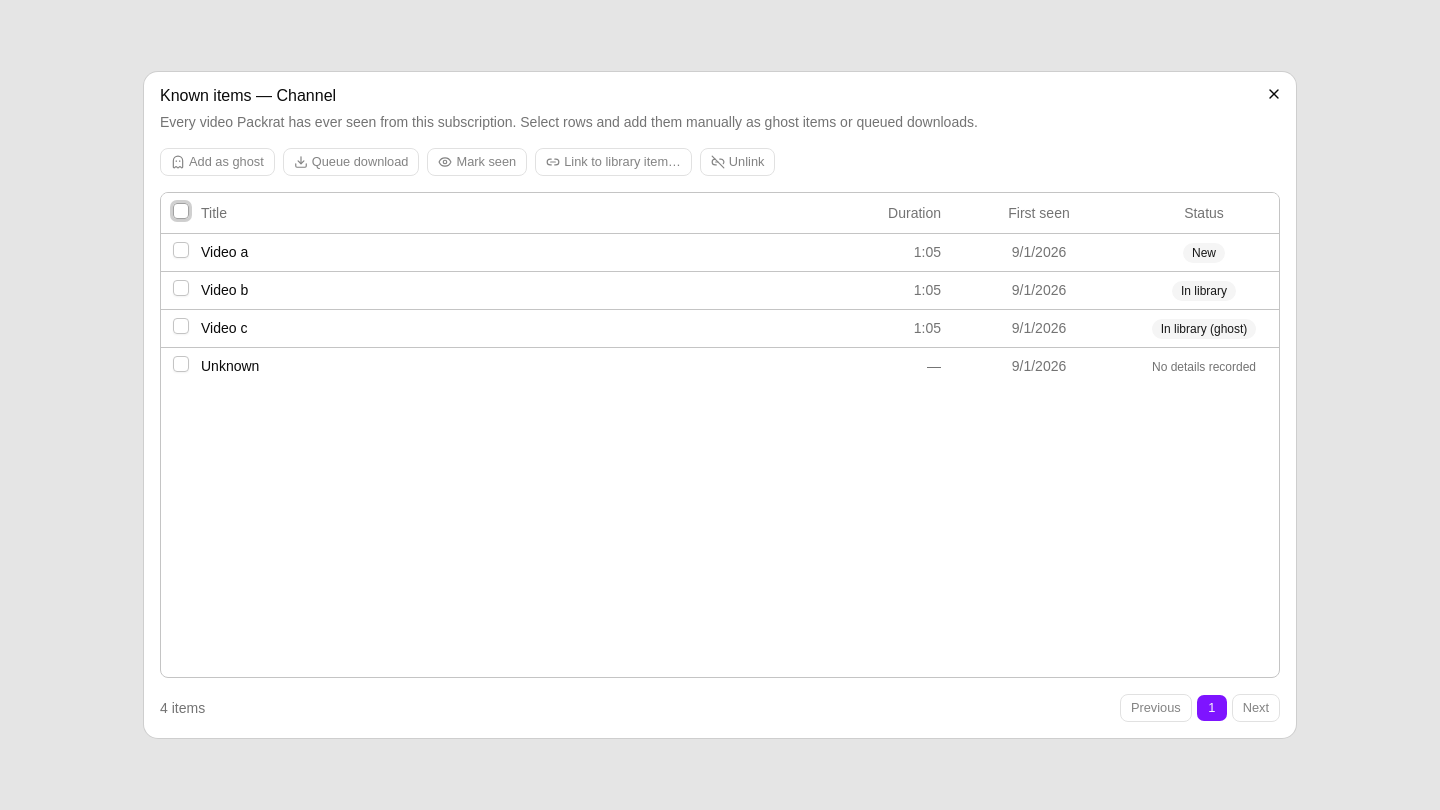
KnownItemsDialog actions › applies the eligibility rules to the selection
The width and height of the screenshot is (1440, 810).
Press the mouse on the row "Unknown — 9/1/2026 No details recorded" at (230, 366), box [161,347,1279,384]
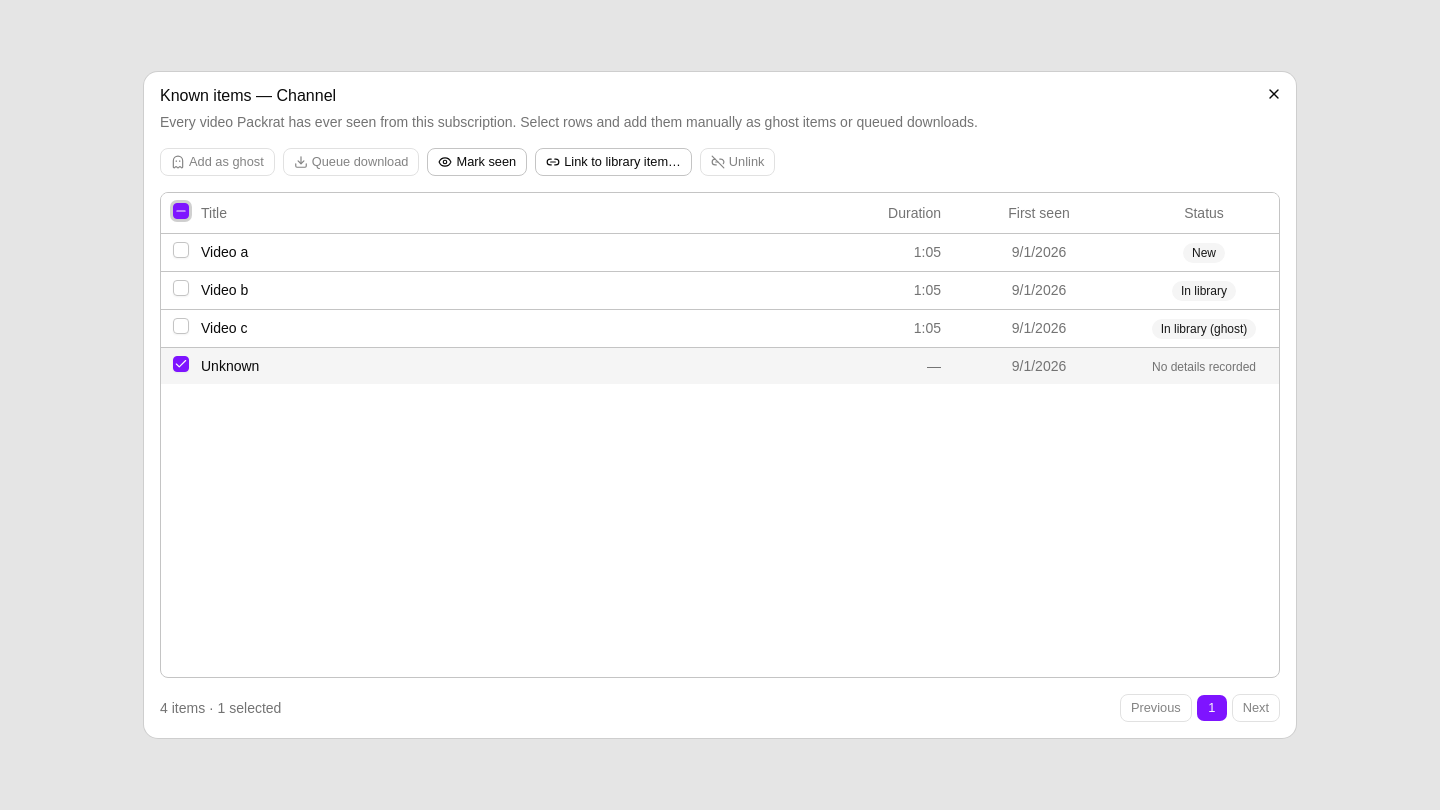
Check: the button "Add as ghost" is disabled, box [160,148,275,176]
Check: the button "Mark seen" is enabled, box [428,148,527,176]
Check: the button "Link to library item…" is enabled, box [535,148,692,176]
Press the mouse on the row "Video b 1:05 9/1/2026 In library" at (720, 290), box [161,271,1279,309]
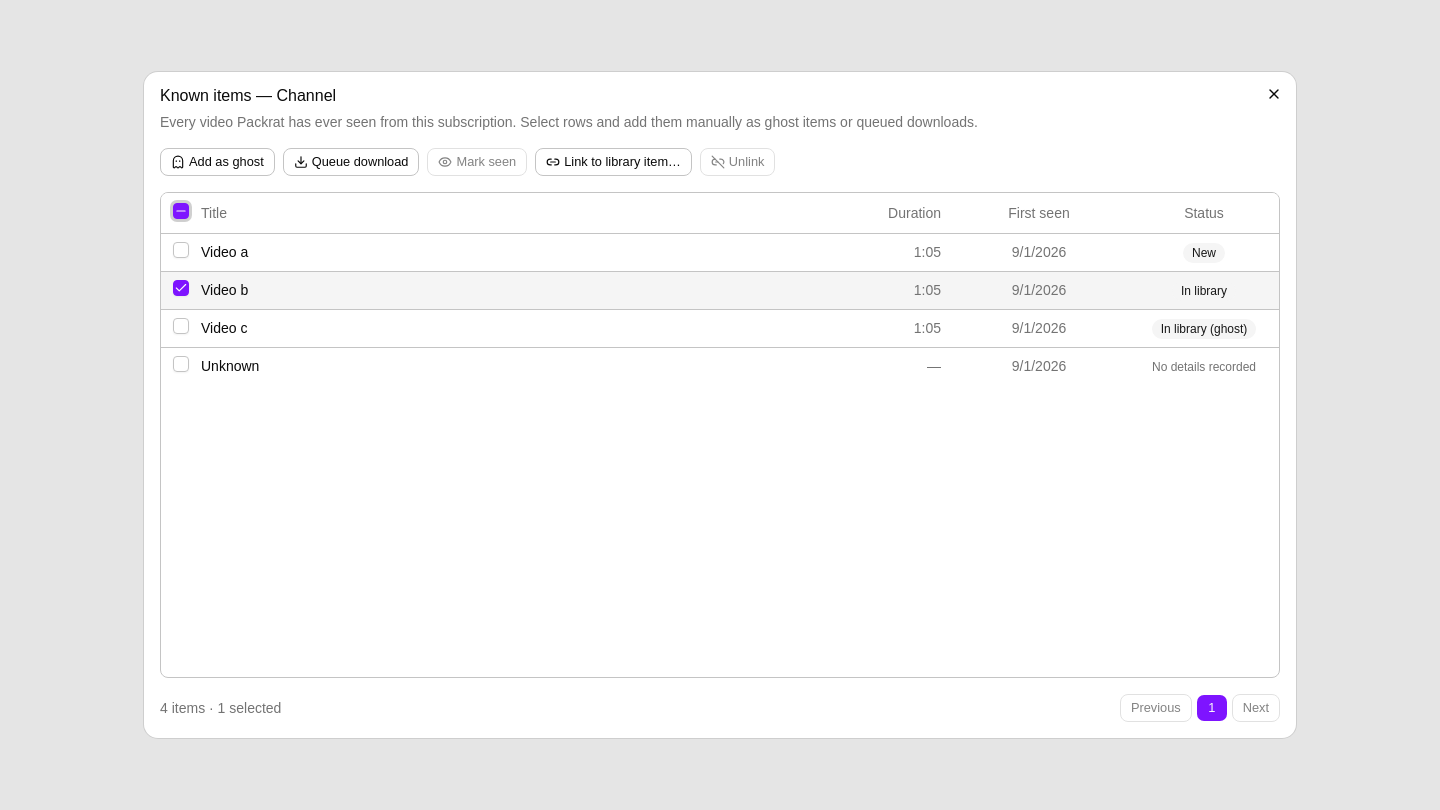
Check: the button "Unlink" is disabled, box [700,148,776,176]
Check: the button "Add as ghost" is enabled, box [160,148,275,176]
Check: the button "Mark seen" is disabled, box [428,148,527,176]
Press the mouse on the row "Video c 1:05 9/1/2026 In library (ghost)" at (720, 328), box [161,309,1279,347]
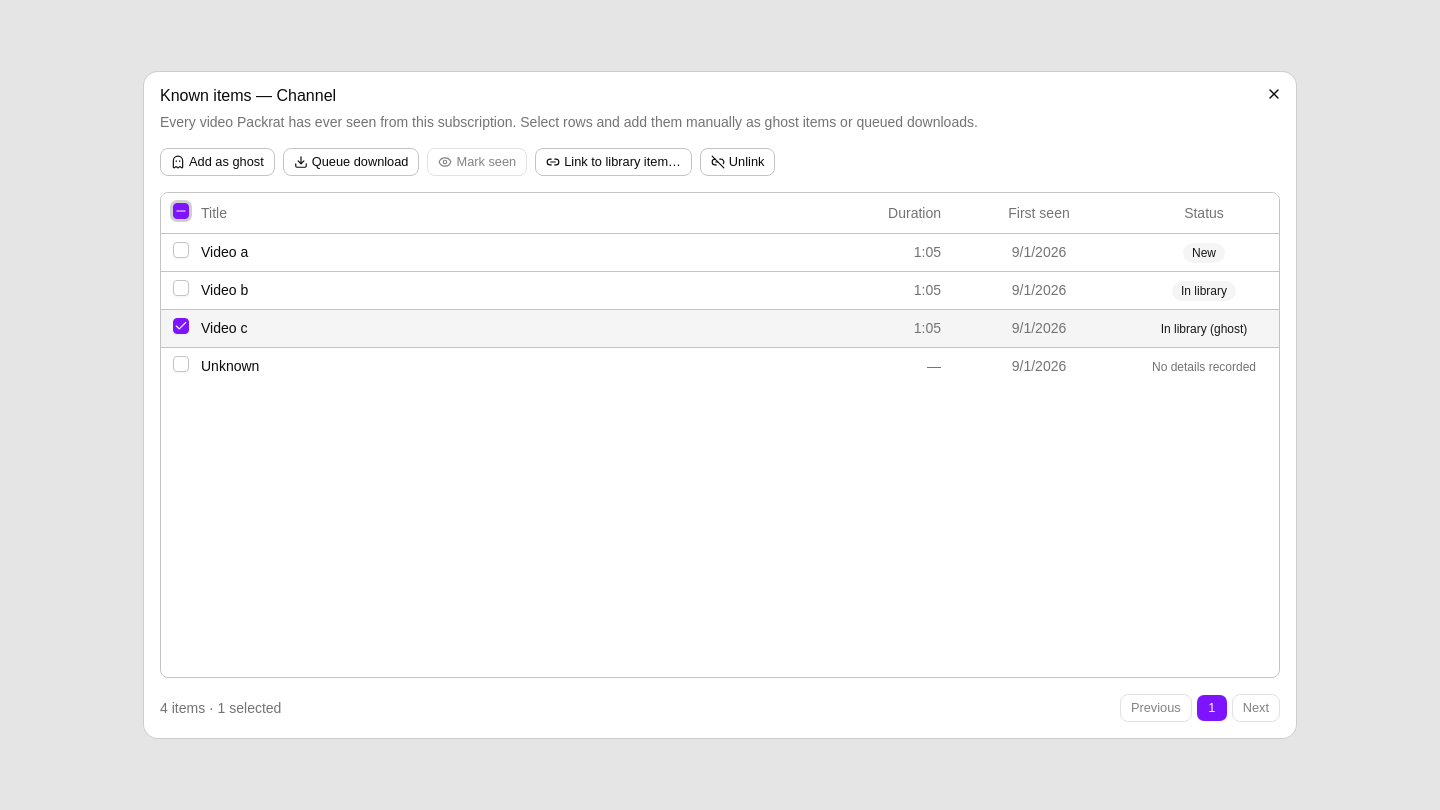
Check: the button "Unlink" is enabled, box [700,148,776,176]
Press the mouse on the row "Video a 1:05 9/1/2026 New" at (720, 252), box [161,233,1279,271]
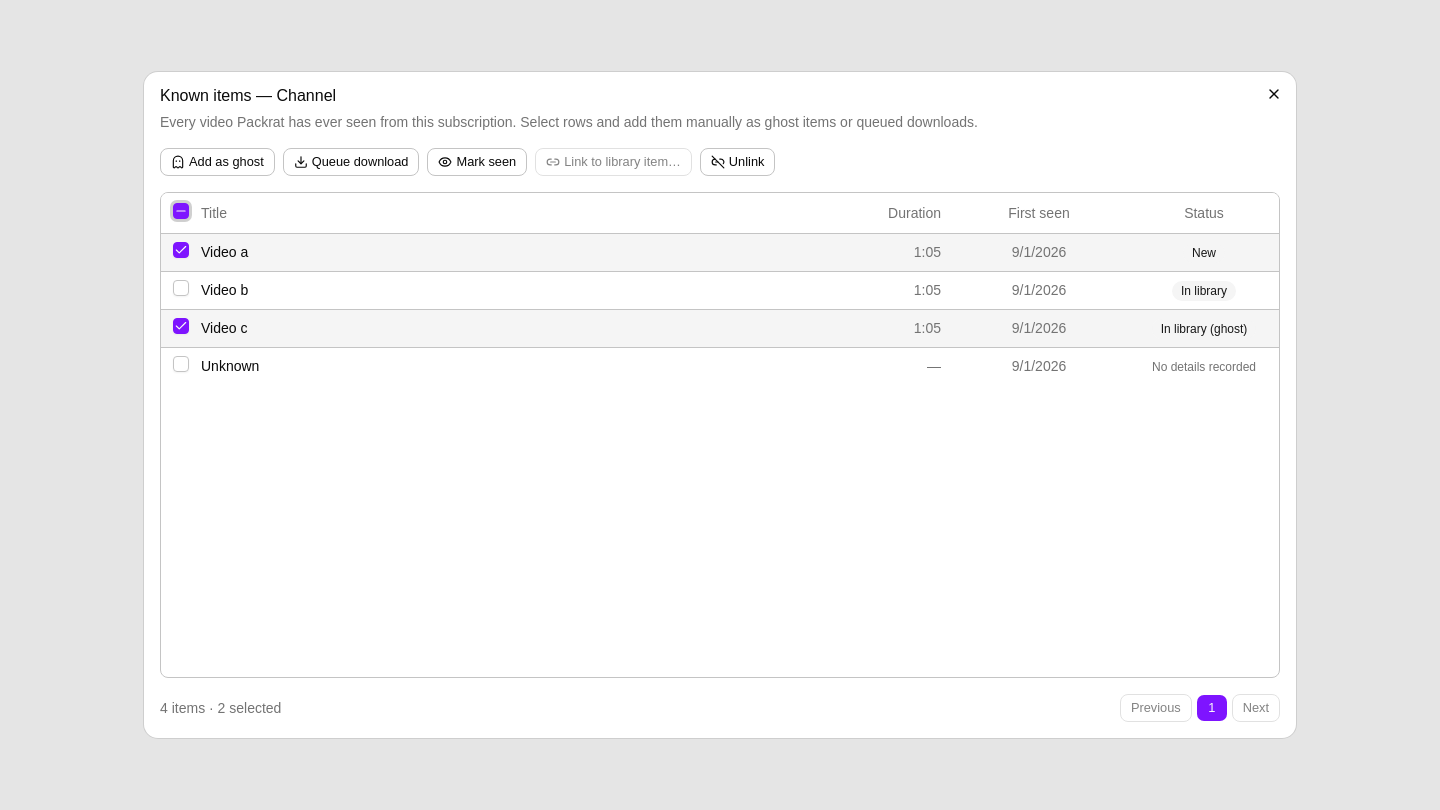
Check: the button "Link to library item…" is disabled, box [535,148,692,176]
